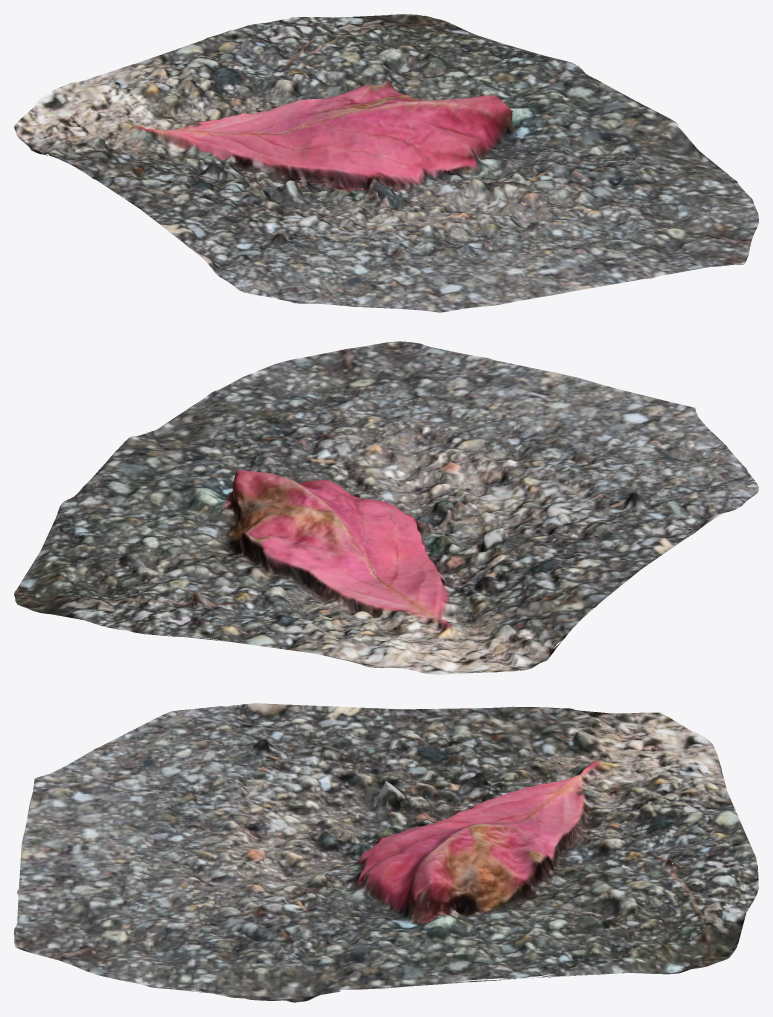
File: modello1.glb
3 views of the same model, one above another, from view 1: azimuth 30°, elevation 25°; view 2: azimuth 150°, elevation 25°; view 3: azimuth 270°, elevation 25° (orthographic). The views are drawn at different scales.
Visible parts, largest first — view 1: mesh.006; view 2: mesh.006; view 3: mesh.006.
Part boxes in pixels (x1,y1,x2,y2): mesh.006: (14, 14, 758, 312); mesh.006: (14, 341, 758, 674); mesh.006: (14, 703, 758, 1002).
Size of the model in its own units: 0.2977 by 0.0284 by 0.3514.
1 material, 1 textured.
